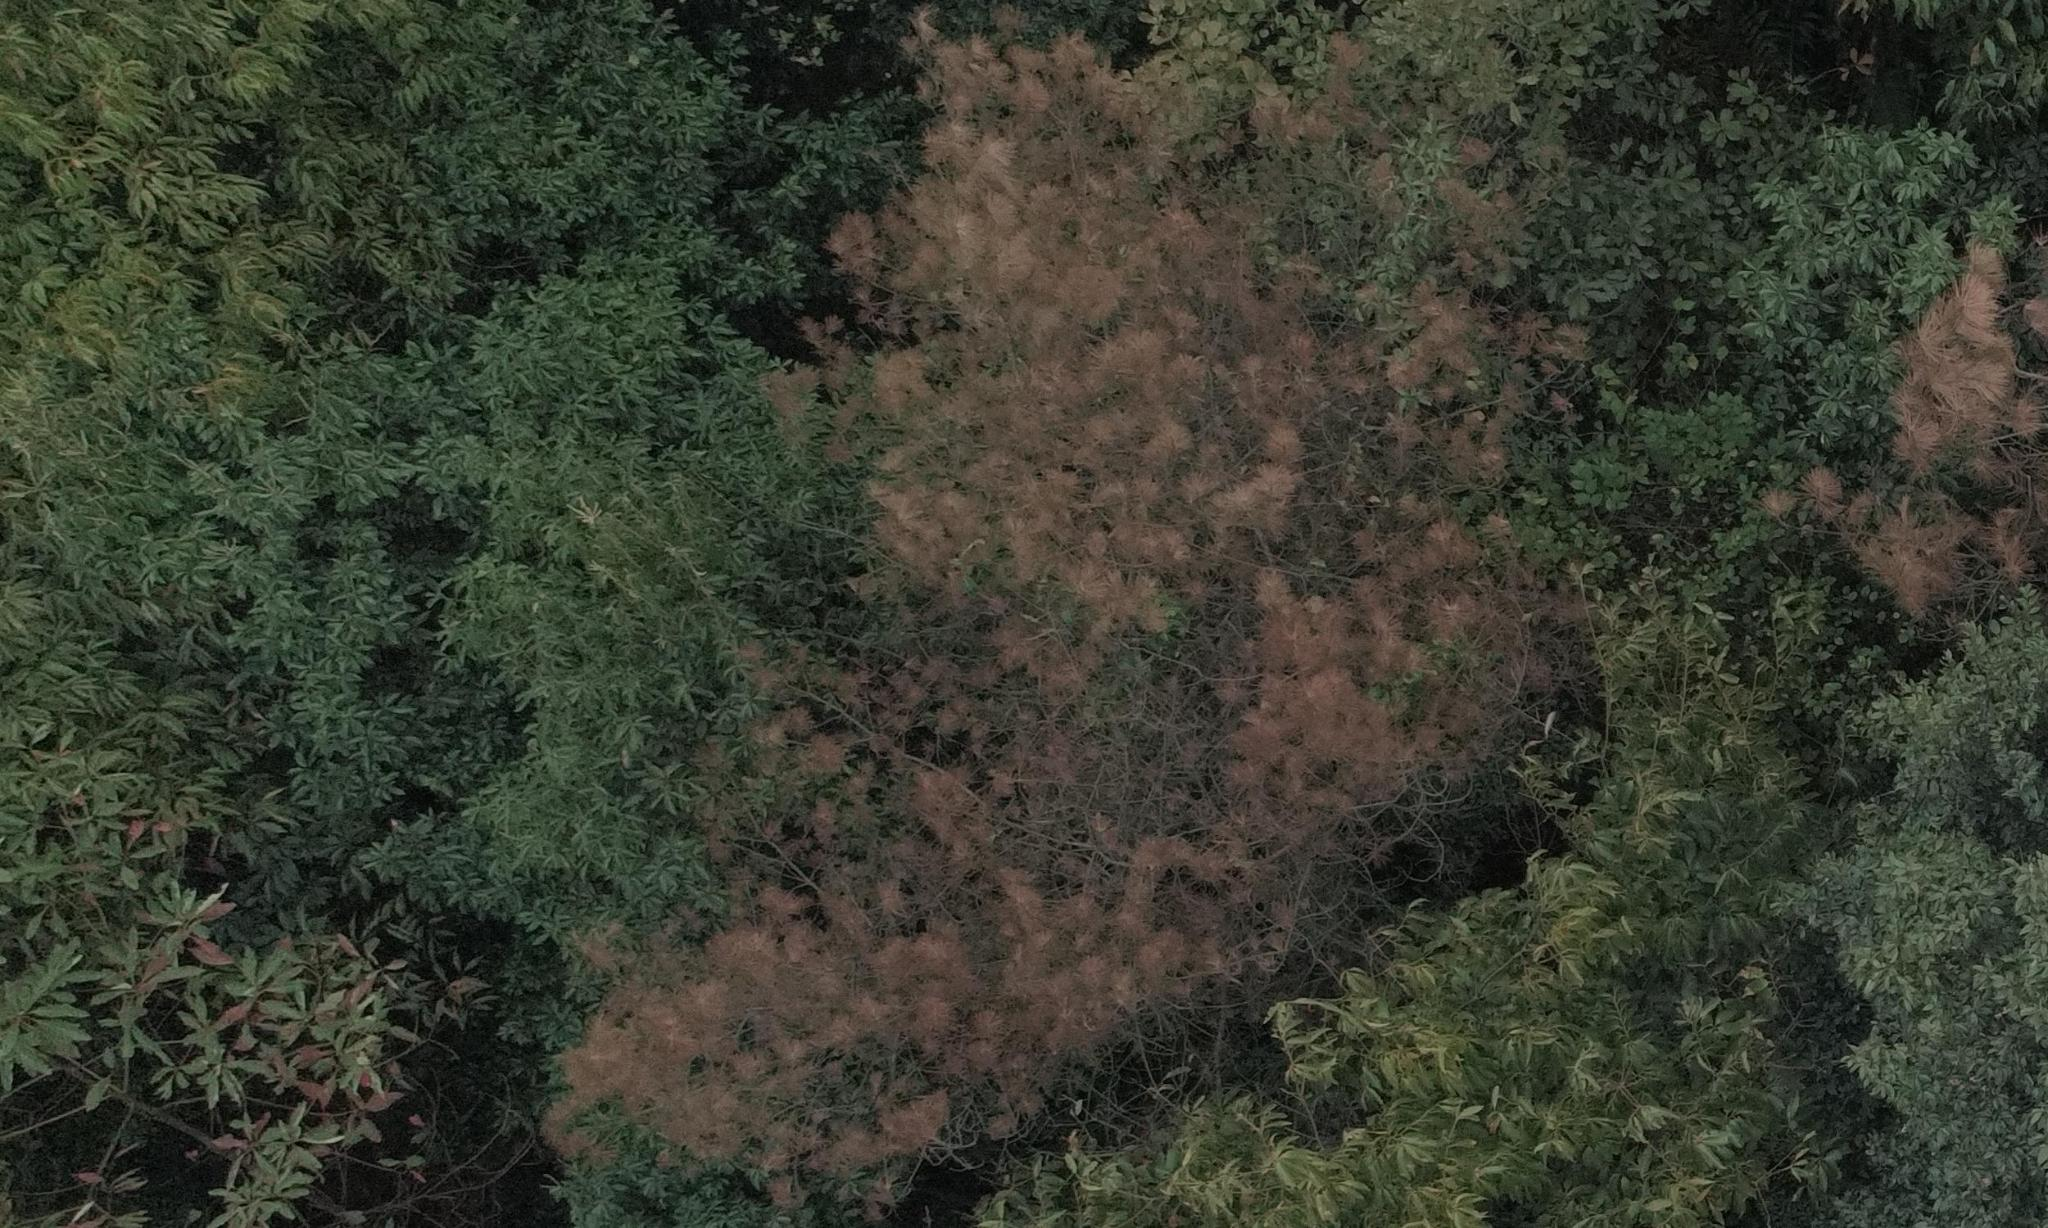heavy: (835, 23, 1544, 759), (538, 794, 1380, 1206), (1769, 243, 2030, 629)
